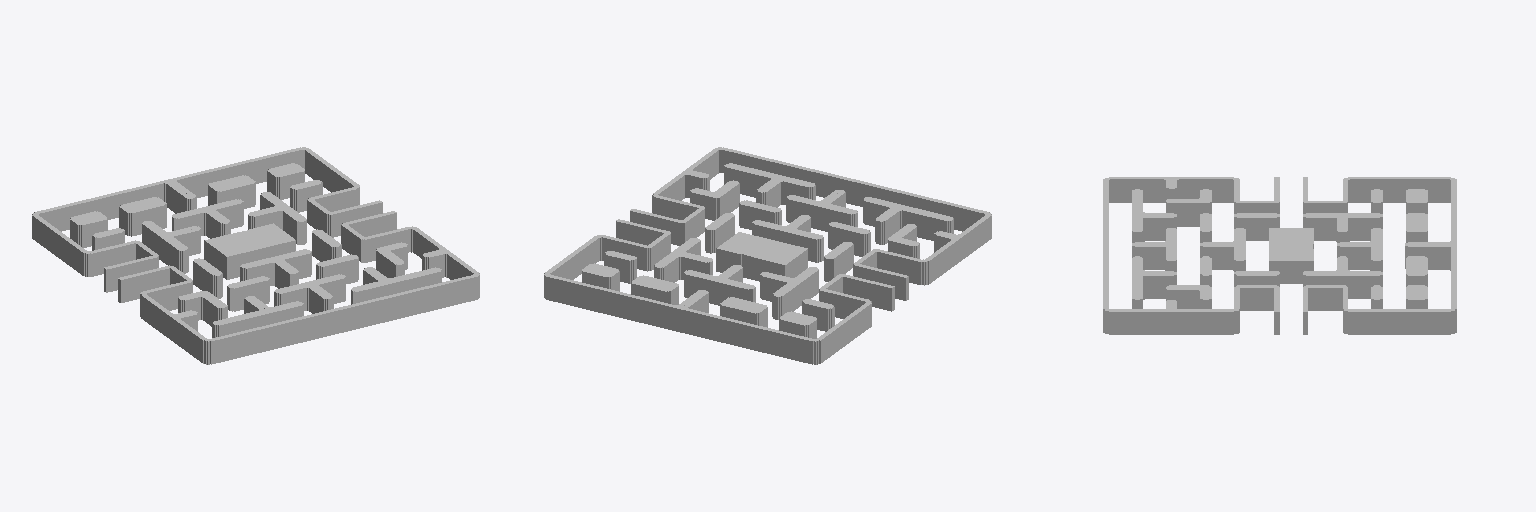
File: board1.obj
3 renders of one model, left to right at view 1: azimuth 30°, elevation 25°; view 2: azimuth 150°, elevation 25°; view 3: azimuth 270°, elevation 25°, orthographic.
Visible parts, largest first — view 1: polySurface212; view 2: polySurface212; view 3: polySurface212.
Boxes of the visible parts, <box> form: polySurface212: <box>32,147,479,364</box>; polySurface212: <box>544,147,991,364</box>; polySurface212: <box>1103,177,1456,334</box>.
Bounding box in the file's own units: 2.24 × 0.18 × 2.48.